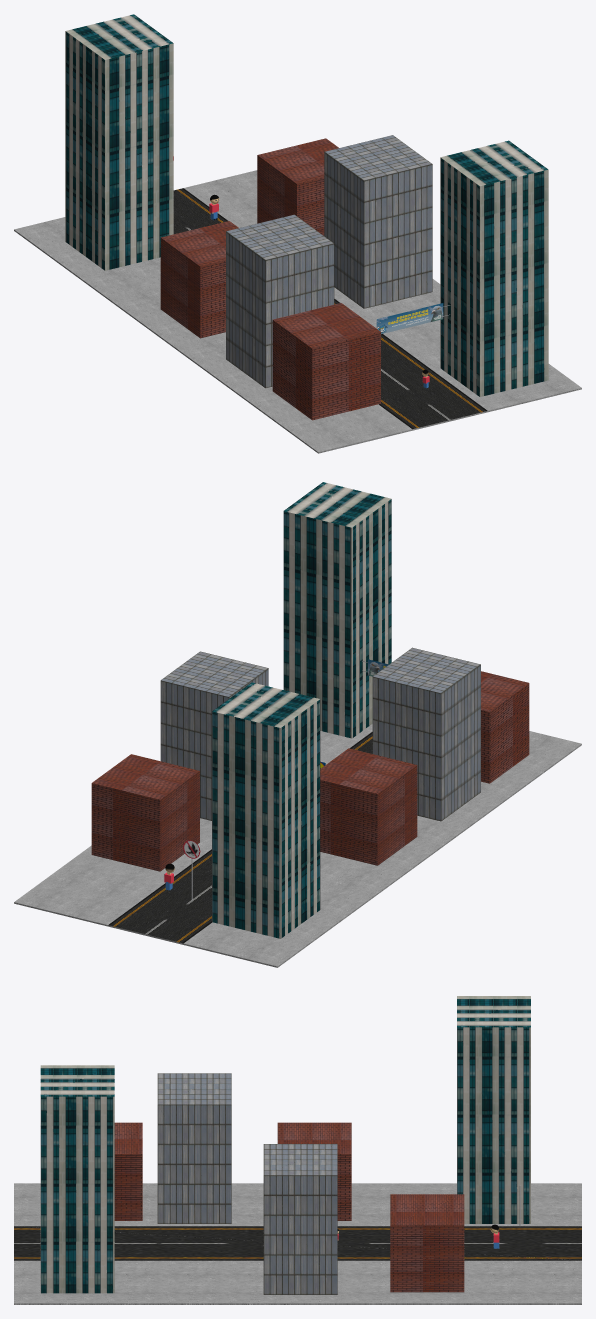
The model's file is mesto2_4.gltf.
3 renders of one model, top to bottom at view 1: azimuth 30°, elevation 25°; view 2: azimuth 150°, elevation 25°; view 3: azimuth 270°, elevation 25°, orthographic. The views are drawn at different scales.
Visible parts, largest first — view 1: cesta, bloki__levo.004, bloki_desno.004, bloki__levo.002, bloki_desno.002, bloki_desno.001, bloki_desno.003, bloki__levo.003, golob_ovira; view 2: cesta, bloki_desno.004, bloki__levo.004, bloki_desno.002, bloki__levo.003, bloki_desno.003, bloki__levo.002, bloki_desno.001; view 3: cesta, bloki__levo.004, bloki_desno.004, bloki__levo.002, bloki_desno.002, bloki__levo.003, bloki_desno.001, bloki_desno.003.
Boxes of the visible parts, <box> form: cesta: <box>14,170,581,453</box>; bloki__levo.004: <box>440,140,548,396</box>; bloki_desno.004: <box>65,14,173,270</box>; bloki__levo.002: <box>324,135,432,308</box>; bloki_desno.002: <box>226,214,334,388</box>; bloki_desno.001: <box>272,303,380,420</box>; bloki_desno.003: <box>160,221,238,338</box>; bloki__levo.003: <box>257,138,338,235</box>; golob_ovira: <box>371,303,450,334</box>; cesta: <box>14,724,581,967</box>; bloki_desno.004: <box>212,682,320,938</box>; bloki__levo.004: <box>283,482,391,738</box>; bloki_desno.002: <box>372,647,480,821</box>; bloki__levo.003: <box>91,754,199,871</box>; bloki_desno.003: <box>320,748,417,865</box>; bloki__levo.002: <box>160,651,268,820</box>; bloki_desno.001: <box>481,671,529,783</box>; cesta: <box>14,1183,581,1304</box>; bloki__levo.004: <box>40,1065,114,1293</box>; bloki_desno.004: <box>457,996,530,1223</box>; bloki__levo.002: <box>263,1144,337,1294</box>; bloki_desno.002: <box>157,1073,231,1223</box>; bloki__levo.003: <box>390,1194,464,1292</box>; bloki_desno.001: <box>114,1122,142,1220</box>; bloki_desno.003: <box>277,1122,351,1220</box>.
Bounding box in the file's own units: 11 × 8.53 × 22.
Materials: 23 (23 with a texture image).
